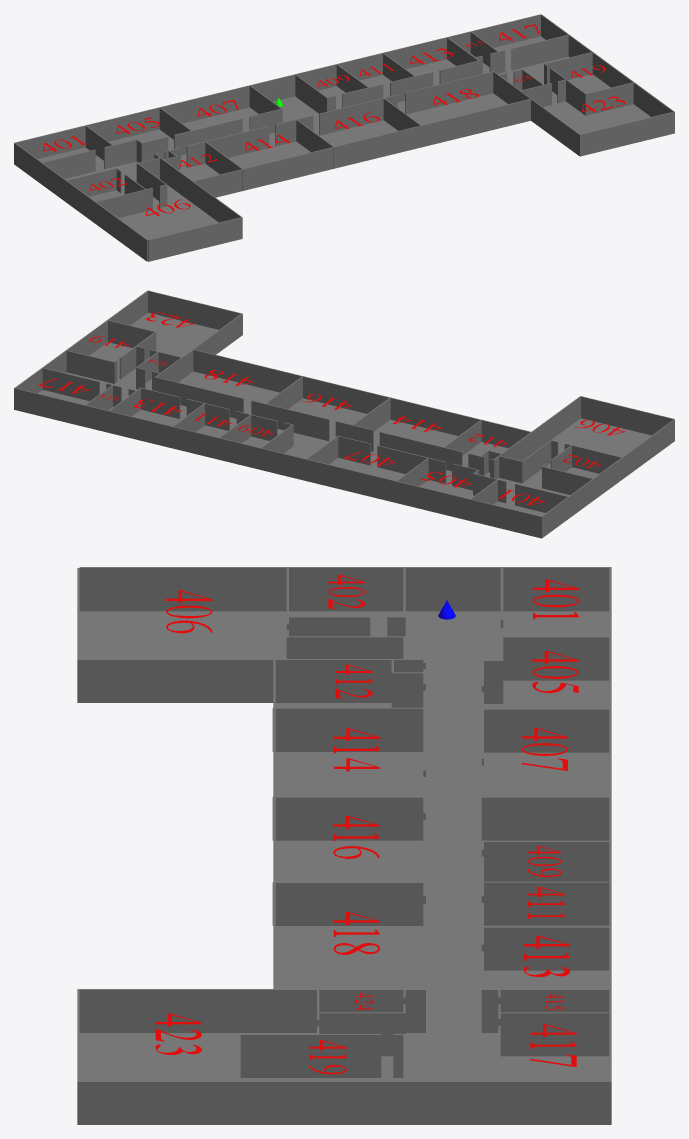
The model's file is gould4.obj.
The picture shows the model from 3 angles, top to bottom: view 1: azimuth 30°, elevation 25°; view 2: azimuth 150°, elevation 25°; view 3: azimuth 270°, elevation 25°; orthographic projection. The views are drawn at different scales.
Visible parts, largest first — view 1: pPlane1, pCube1, pCube21, pCube87, pCube8, pCube7, pCube4, pCube150, pPlane2, pCube5, pCube70, pCube103 (+30 smaller); view 2: pCube1, pPlane1, pCube21, pCube87, pPlane2, pPlane3, pCube4, pCube8, pCube7, pCube5, pCube149, pCube70 (+31 smaller); view 3: pPlane1, pCube4, pCube87, pCube5, pCube70, pPlane2, pPlane3, pCube138, pCube96, pCube141, pCube162, pCube139 (+15 smaller).
Boxes of the visible parts, x1=… form: pPlane1: x1=38, y1=36, x2=610, y2=220; pCube1: x1=14, y1=14, x2=540, y2=160; pCube21: x1=193, y1=99, x2=530, y2=197; pCube87: x1=14, y1=143, x2=147, y2=261; pCube8: x1=579, y1=111, x2=674, y2=156; pCube7: x1=148, y1=217, x2=242, y2=261; pCube4: x1=541, y1=14, x2=673, y2=116; pCube150: x1=405, y1=71, x2=493, y2=114; pPlane2: x1=122, y1=203, x2=218, y2=239; pCube5: x1=154, y1=153, x2=241, y2=222; pCube70: x1=498, y1=75, x2=579, y2=155; pCube103: x1=186, y1=126, x2=269, y2=167; pCube1: x1=15, y1=388, x2=542, y2=538; pPlane1: x1=38, y1=348, x2=598, y2=516; pCube21: x1=193, y1=349, x2=530, y2=448; pCube87: x1=541, y1=419, x2=674, y2=538; pPlane2: x1=551, y1=418, x2=651, y2=456; pPlane3: x1=99, y1=312, x2=218, y2=356; pCube4: x1=14, y1=291, x2=147, y2=409; pCube8: x1=147, y1=290, x2=242, y2=335; pCube7: x1=580, y1=396, x2=674, y2=435; pCube5: x1=493, y1=396, x2=580, y2=478; pCube149: x1=251, y1=400, x2=329, y2=441; pCube70: x1=161, y1=314, x2=242, y2=382; pPlane1: x1=275, y1=611, x2=609, y2=1080; pCube4: x1=79, y1=1080, x2=611, y2=1124; pCube87: x1=79, y1=567, x2=610, y2=611; pCube5: x1=79, y1=659, x2=425, y2=702; pCube70: x1=79, y1=989, x2=403, y2=1032; pPlane2: x1=79, y1=611, x2=275, y2=658; pPlane3: x1=79, y1=1033, x2=274, y2=1080; pCube138: x1=272, y1=796, x2=425, y2=840; pCube96: x1=272, y1=707, x2=425, y2=751; pCube141: x1=272, y1=882, x2=425, y2=925; pCube162: x1=240, y1=1034, x2=381, y2=1077; pCube139: x1=481, y1=796, x2=609, y2=840.
Bounding box in the file's own units: 5126 × 201 × 2249.
